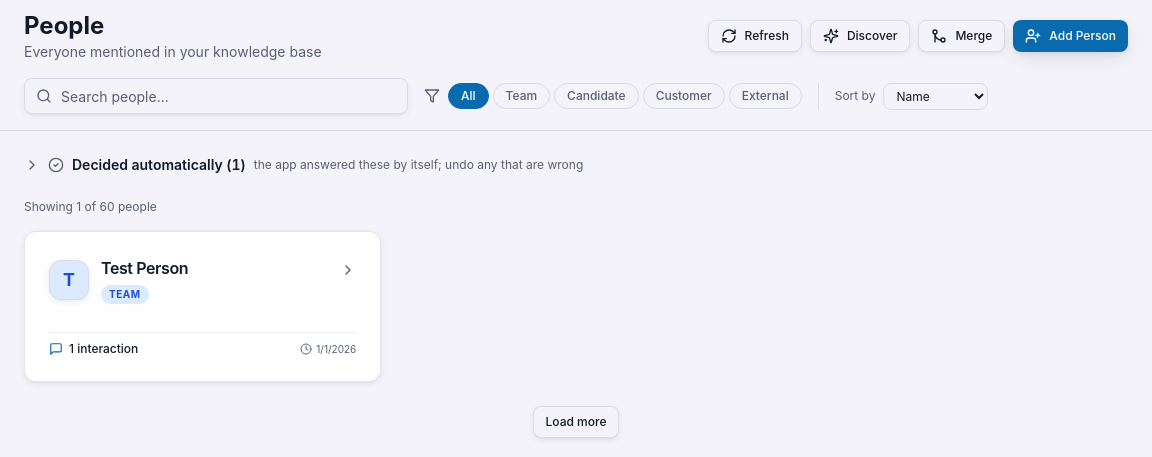
Test: People Page › should hide stale pagination immediately when the active query changes
expect the heading "Test Person" is shown: met, box [101,256,188,280]
expect the button "Load more" is shown: met, box [532,406,620,438]
Select "Interactions" in the dropdown named "Sort contacts": [936, 96] box [884,82,988,110]
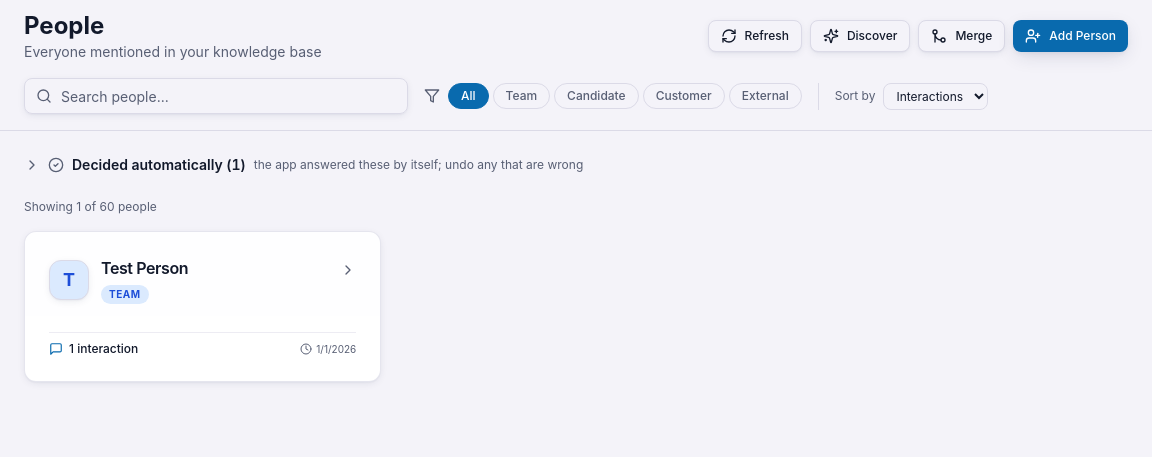
expect the button "Load more" is gone: met
